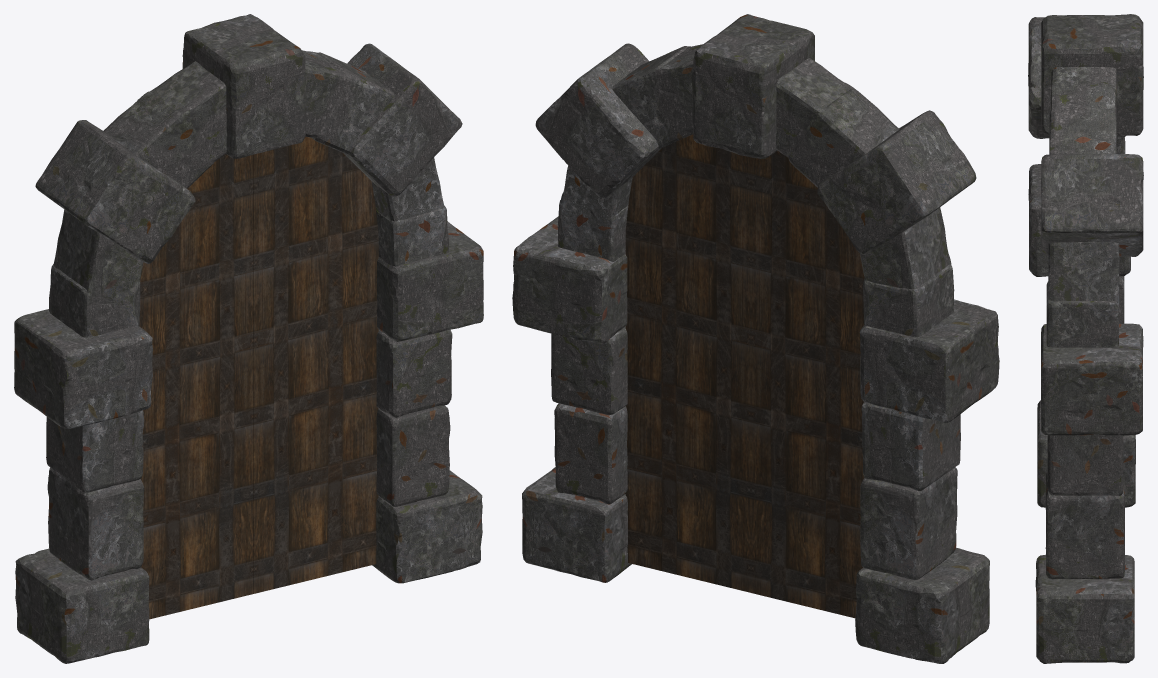
The model's file is MedivalGate.fbx.
3 views of the same model, side by side, from view 1: azimuth 30°, elevation 25°; view 2: azimuth 150°, elevation 25°; view 3: azimuth 270°, elevation 25° (orthographic). The views are drawn at different scales.
Visible parts, largest first — view 1: Cube.002, Plane, Plane.001; view 2: Cube.002, Plane, Plane.001; view 3: Cube.002.
Part boxes in pixels (box(x1,y1,x2,y2)): Cube.002: box(14, 14, 483, 663); Plane: box(253, 136, 378, 593); Plane.001: box(139, 154, 253, 619); Cube.002: box(512, 14, 999, 663); Plane: box(625, 134, 750, 592); Plane.001: box(750, 151, 864, 618); Cube.002: box(1028, 14, 1143, 663).
Size of the model in its own units: 221 by 275 by 53.84.
